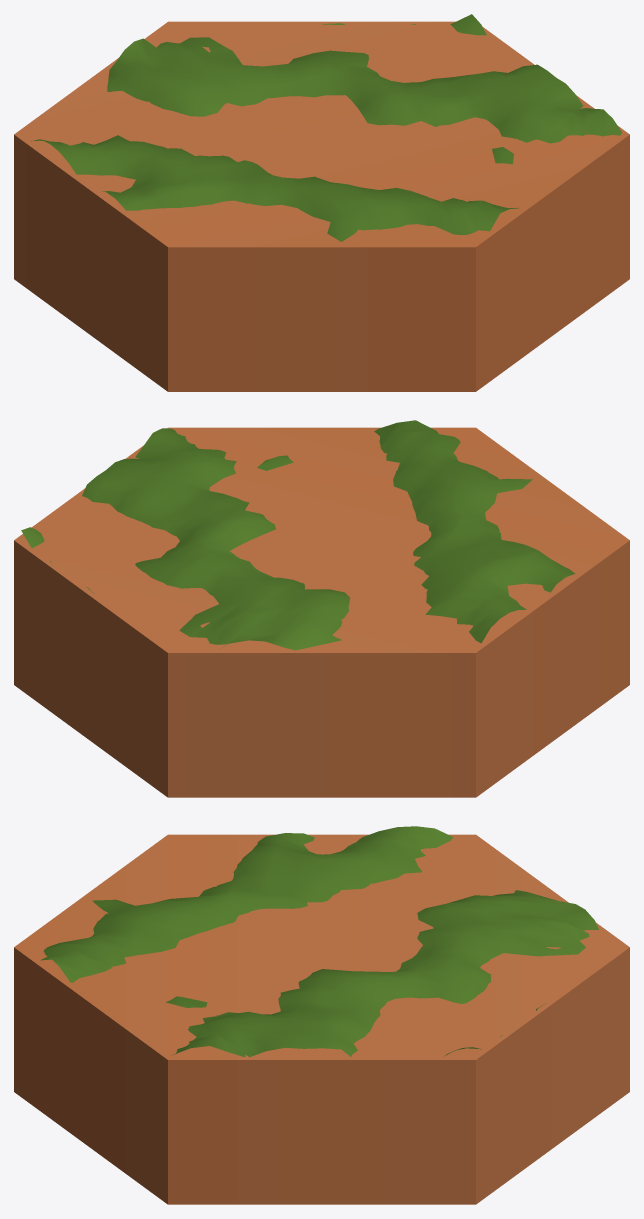
Rendered from Grass_Hex1.fbx.
3 renders of one model, top to bottom at view 1: azimuth 30°, elevation 25°; view 2: azimuth 150°, elevation 25°; view 3: azimuth 270°, elevation 25°, orthographic.
Visible parts, largest first — view 1: Ground_Hex1, Grass1; view 2: Ground_Hex1, Grass1; view 3: Ground_Hex1, Grass1.
Boxes of the visible parts, box(x1,y1,x2,y2) form: Ground_Hex1: box(14, 21, 629, 391); Grass1: box(31, 14, 621, 241); Ground_Hex1: box(14, 427, 629, 797); Grass1: box(21, 420, 575, 650); Ground_Hex1: box(14, 834, 629, 1204); Grass1: box(40, 826, 598, 1057).
Bounding box in the file's own units: 20.05 × 6.47 × 23.15.
Materials: 1 (1 with a texture image).
